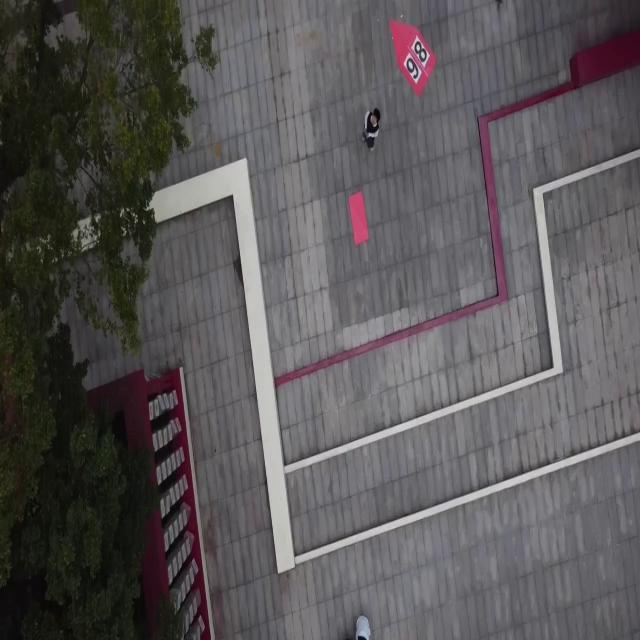-sign-: (389, 18, 437, 98)
